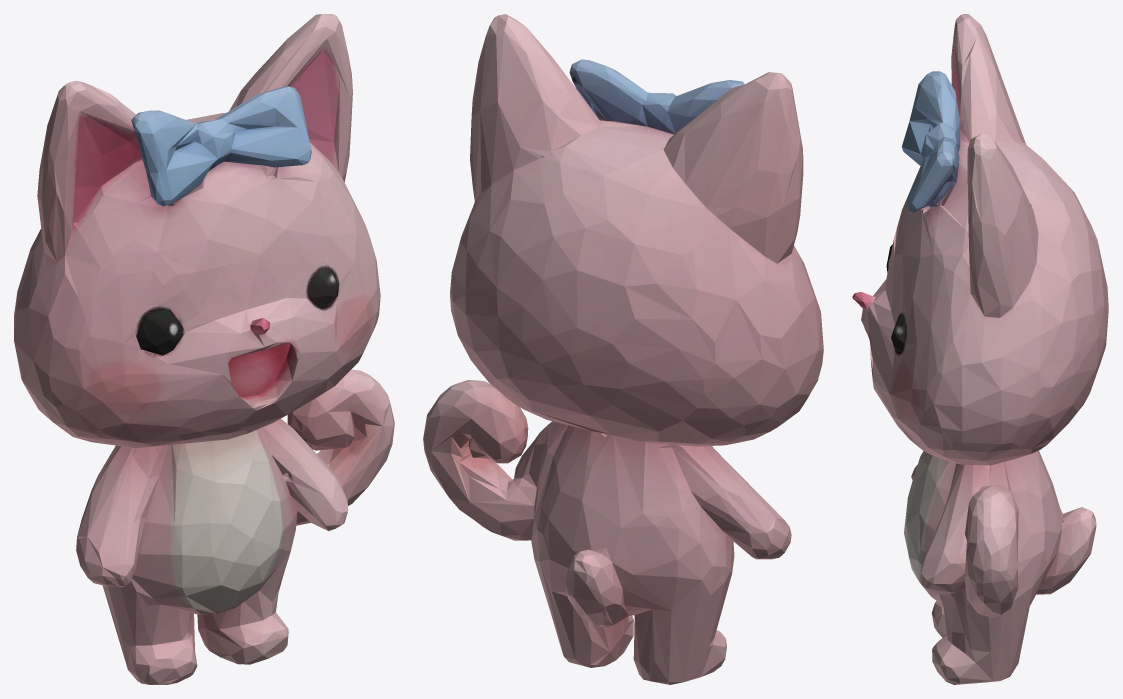
The model's file is coco.glb.
3 views of the same model, side by side, from view 1: azimuth 30°, elevation 25°; view 2: azimuth 150°, elevation 25°; view 3: azimuth 270°, elevation 25° (orthographic). The views are drawn at different scales.
Visible parts, largest first — view 1: geometry_0; view 2: geometry_0; view 3: geometry_0.
Boxes of the visible parts, left/top/right/bottom form: geometry_0: left=14, top=14, right=394, bottom=684; geometry_0: left=423, top=14, right=823, bottom=684; geometry_0: left=852, top=14, right=1108, bottom=684.
Size of the model in its own units: 0.6384 by 1 by 0.4026.
1 material, 1 textured.
